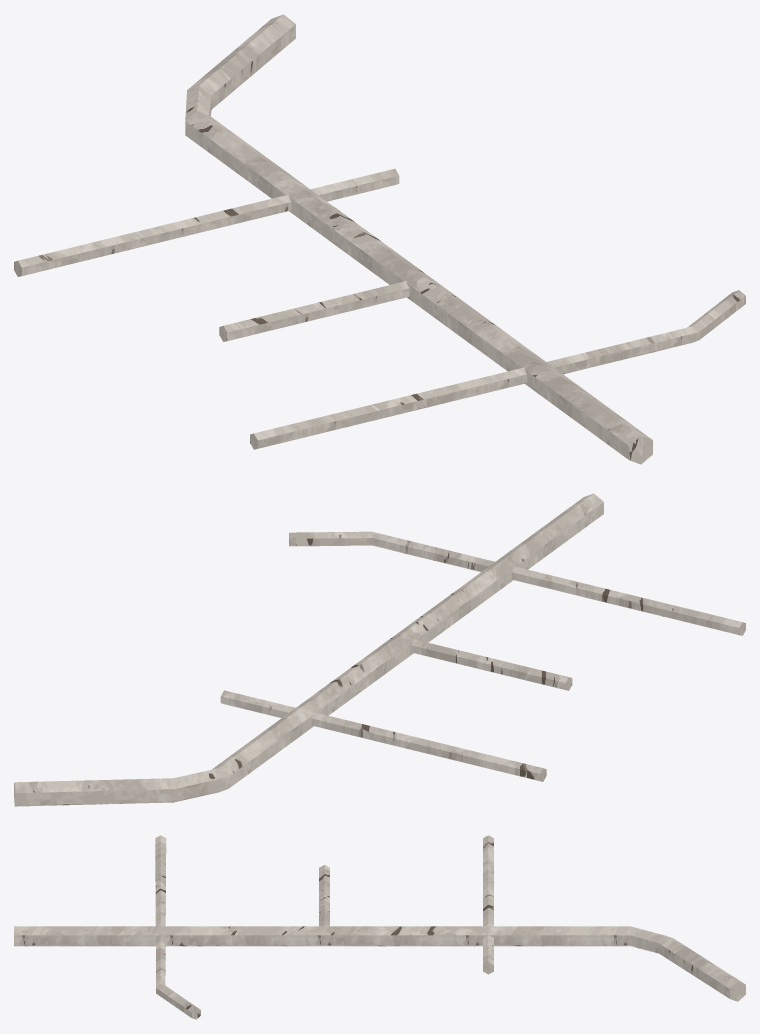
Rendered from viga2.glb.
3 renders of one model, top to bottom at view 1: azimuth 30°, elevation 25°; view 2: azimuth 150°, elevation 25°; view 3: azimuth 270°, elevation 25°, orthographic. The views are drawn at different scales.
Parts seen in each view (by area): view 1: Antenna_broken_0; view 2: Antenna_broken_0; view 3: Antenna_broken_0.
Boxes of the visible parts, x1=… form: Antenna_broken_0: x1=14, y1=14, x2=745, y2=464; Antenna_broken_0: x1=14, y1=493, x2=745, y2=806; Antenna_broken_0: x1=14, y1=835, x2=745, y2=1019.
Bounding box in the file's own units: 4.32 × 0.2307 × 7.67.
1 material, 1 textured.
